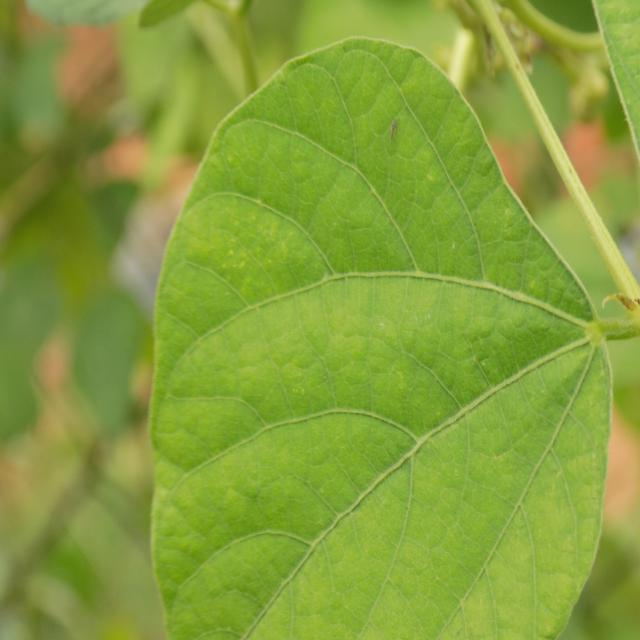Dolicos bean_healthy: (154, 37, 608, 640)
